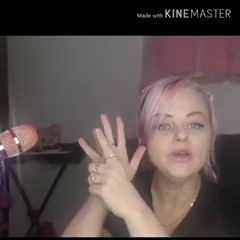O: (71, 110, 156, 214)
